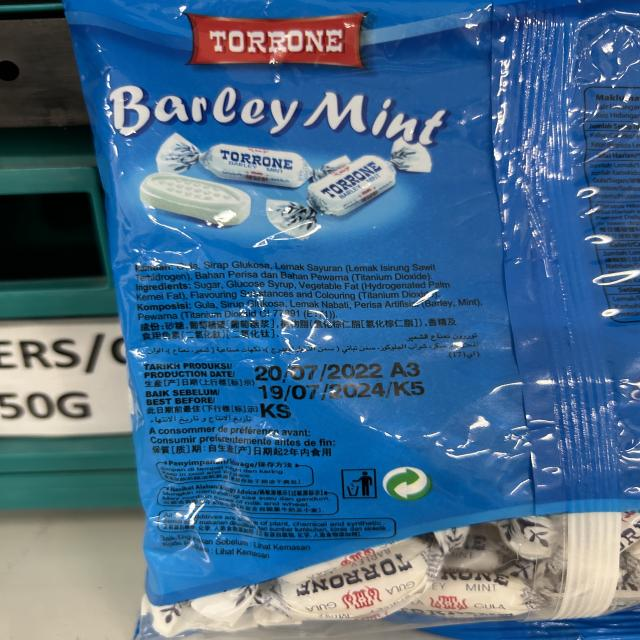object_name: (93, 0, 637, 640)
